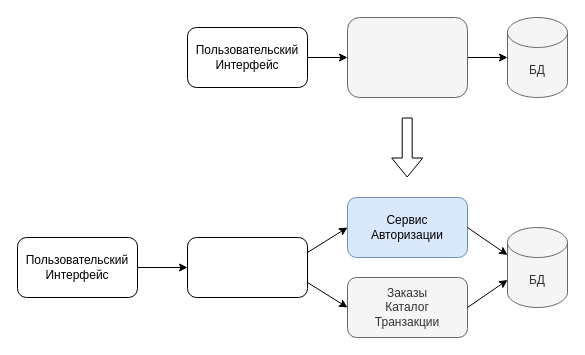
The diagram is 585 pixels wide and 355 high, and some of its shapes have lost their labels. Each missing label, with the centre of its shape:
"API gateway" goes at point 247,267.
"Авторизация Заказы Каталог Транзакции" goes at point 407,57.
